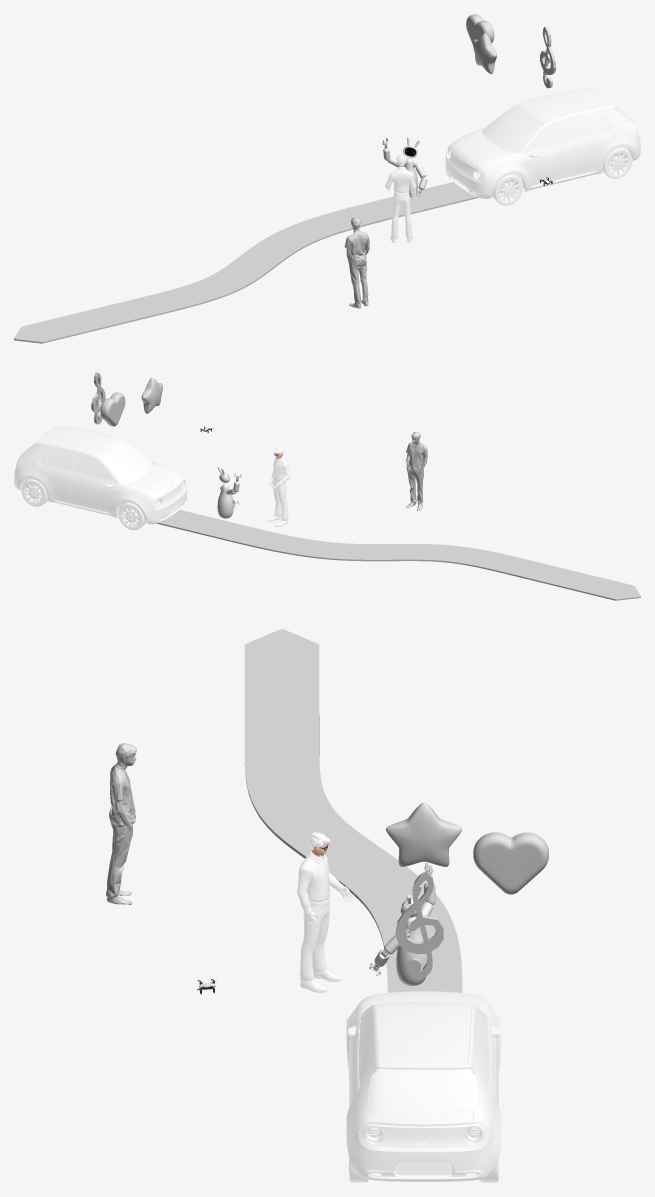
3 views of the same model, one above another, from view 1: azimuth 30°, elevation 25°; view 2: azimuth 150°, elevation 25°; view 3: azimuth 270°, elevation 25° (orthographic). The views are drawn at different scales.
Parts seen in each view (by area): view 1: ego_trajectory, CarBodyModel, GlassesModel, pedestrian, RoofPlasticModel, FrontBajosPalitos_Plastic25_0.001, WheelFrameModel, WheelRubberModel, OutfitBottom, BodyFrontBackPlasticModel, star, OutfitTop (+2 smaller); view 2: ego_trajectory, CarBodyModel, GlassesModel, pedestrian, RoofPlasticModel, FrontBajosPalitos_Plastic25_0.001, heart, WheelFrameModel, WheelRubberModel, BodyFrontBackPlasticModel, star, OutfitBottom (+3 smaller); view 3: ego_trajectory, GlassesModel, CarBodyModel, heart, pedestrian, star, RoofPlasticModel, BodyFrontBackPlasticModel, music, OutfitBottom, FrontBajosPalitos_Plastic25_0.001, OutfitTop (+1 smaller).
Part boxes in pixels (bbox=[...]): ego_trajectory: bbox=[14, 182, 478, 343]; CarBodyModel: bbox=[445, 110, 640, 193]; GlassesModel: bbox=[485, 88, 630, 153]; pedestrian: bbox=[344, 217, 369, 308]; RoofPlasticModel: bbox=[482, 87, 614, 157]; FrontBajosPalitos_Plastic25_0.001: bbox=[446, 150, 640, 198]; WheelFrameModel: bbox=[498, 152, 629, 202]; WheelRubberModel: bbox=[492, 147, 632, 205]; OutfitBottom: bbox=[391, 191, 412, 239]; BodyFrontBackPlasticModel: bbox=[446, 125, 638, 180]; star: bbox=[472, 33, 496, 74]; OutfitTop: bbox=[385, 167, 416, 196]; ego_trajectory: bbox=[138, 510, 640, 600]; CarBodyModel: bbox=[14, 445, 187, 519]; GlassesModel: bbox=[23, 426, 152, 483]; pedestrian: bbox=[406, 431, 427, 510]; RoofPlasticModel: bbox=[37, 425, 154, 487]; FrontBajosPalitos_Plastic25_0.001: bbox=[14, 481, 186, 524]; heart: bbox=[100, 392, 125, 426]; WheelFrameModel: bbox=[24, 483, 139, 527]; WheelRubberModel: bbox=[21, 478, 145, 530]; BodyFrontBackPlasticModel: bbox=[15, 459, 186, 507]; star: bbox=[141, 377, 162, 413]; OutfitBottom: bbox=[273, 479, 288, 520]; ego_trajectory: bbox=[244, 629, 462, 992]; GlassesModel: bbox=[359, 1002, 488, 1112]; CarBodyModel: bbox=[346, 991, 501, 1170]; heart: bbox=[473, 832, 548, 894]; pedestrian: bbox=[106, 743, 137, 904]; star: bbox=[386, 802, 461, 866]; RoofPlasticModel: bbox=[347, 1004, 500, 1089]; BodyFrontBackPlasticModel: bbox=[361, 991, 486, 1147]; music: bbox=[395, 870, 443, 978]; OutfitBottom: bbox=[300, 897, 329, 981]; FrontBajosPalitos_Plastic25_0.001: bbox=[349, 1074, 498, 1181]; OutfitTop: bbox=[297, 850, 343, 914].
Size of the model in its own units: 14.98 by 3.46 by 4.96.
34 materials, 3 textured.
